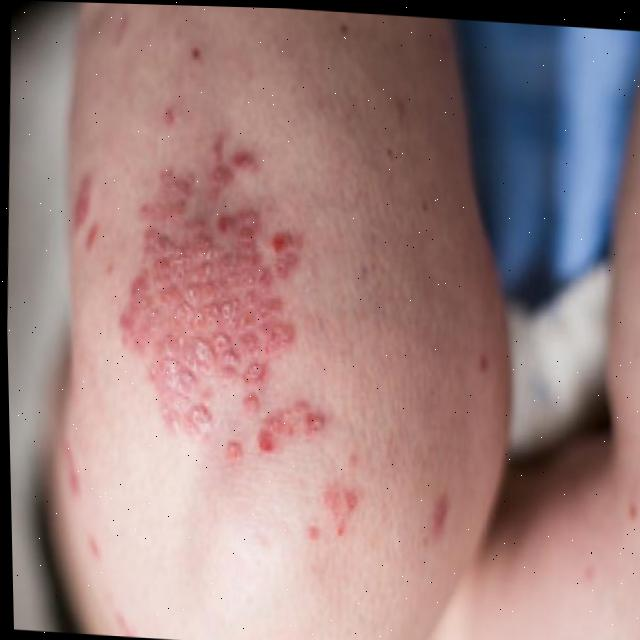Eczema: (120, 195, 356, 494)
